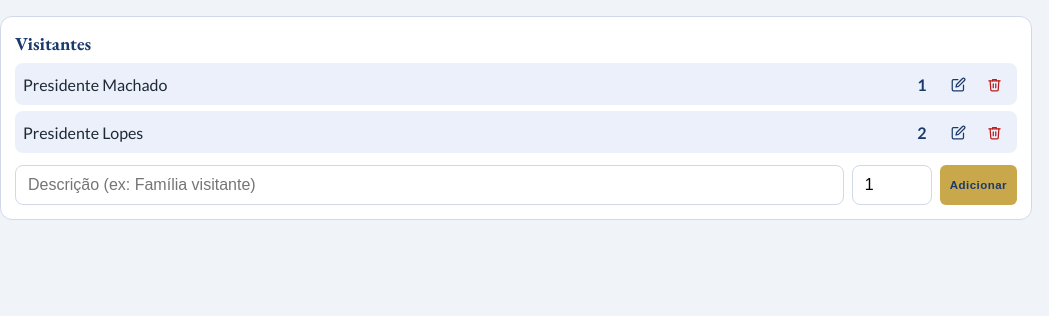
Test: VisitorEntry › pre-fills description and habitual count when a suggestion is selected
The image size is (1049, 316).
Focus the dropdown with placeholder "Descrição (ex: Família visitante)" at point(429, 185), box [15,165,844,205]
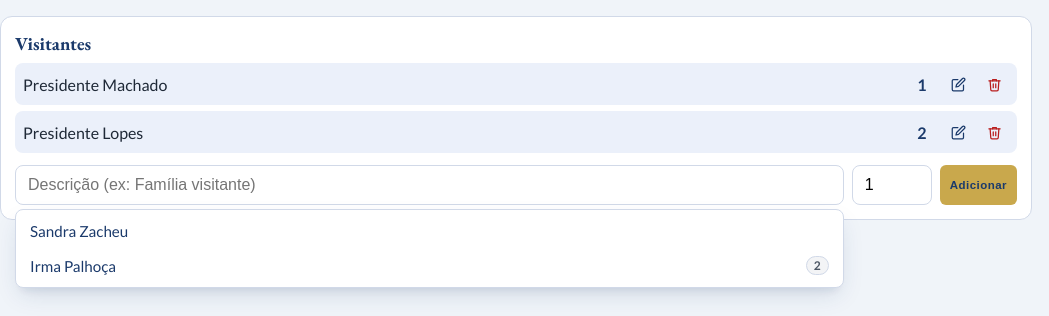
Press the mouse on the text "Irma Palhoça" at point(73, 266), box [30,256,116,274]
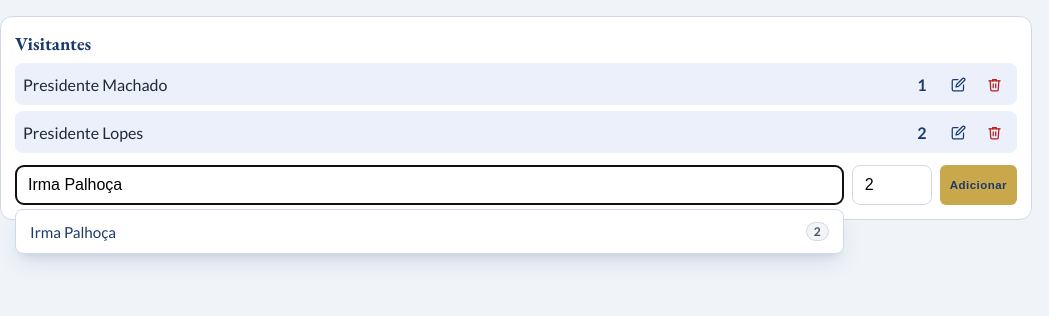
Now the dropdown with placeholder "Descrição (ex: Família visitante)" holds "Irma Palhoça", box [15,165,844,205]
Now the number field named "Quantidade de visitantes" holds "2", box [852,165,932,205]
